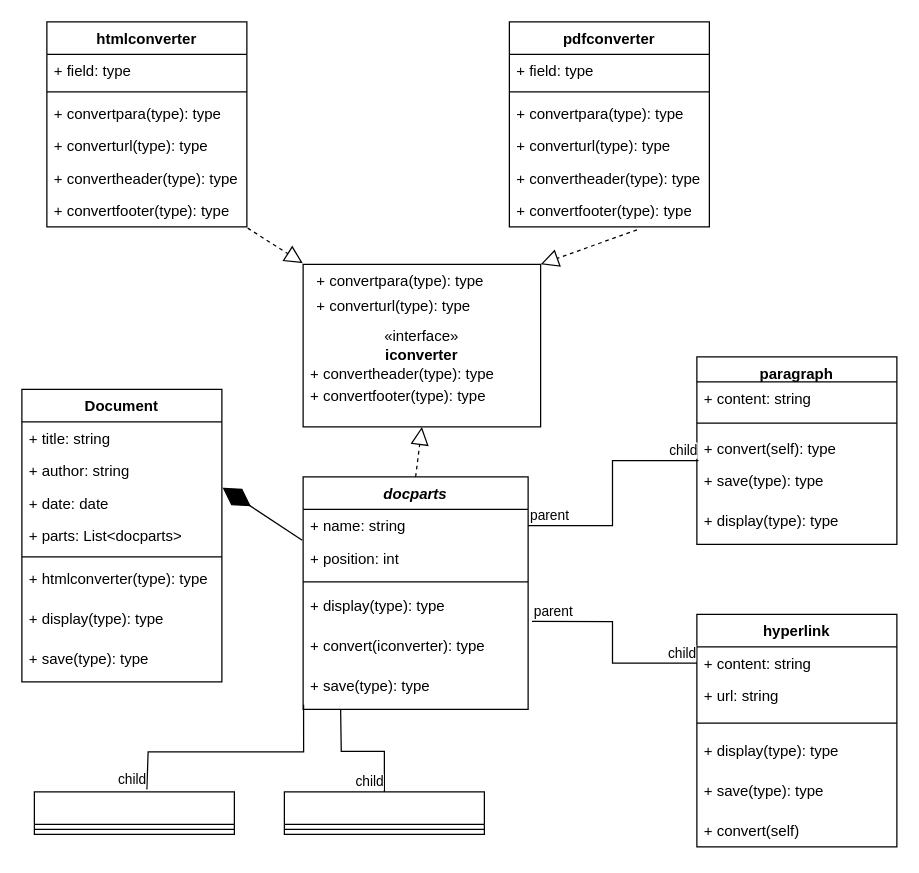
Image size: 919x873. Some labels were removed from this diagram. Here are the shapes that lost their labels. From the top down, the centre of each, then its label:
(133,812): footer
(383,812): header
